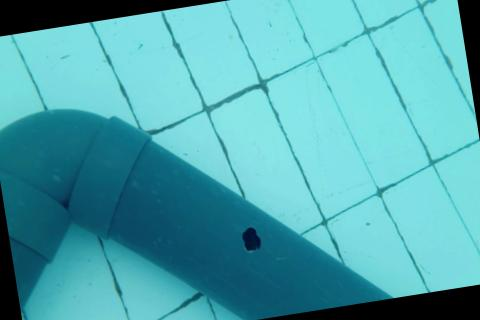kebocoran: (239, 223, 263, 254)
